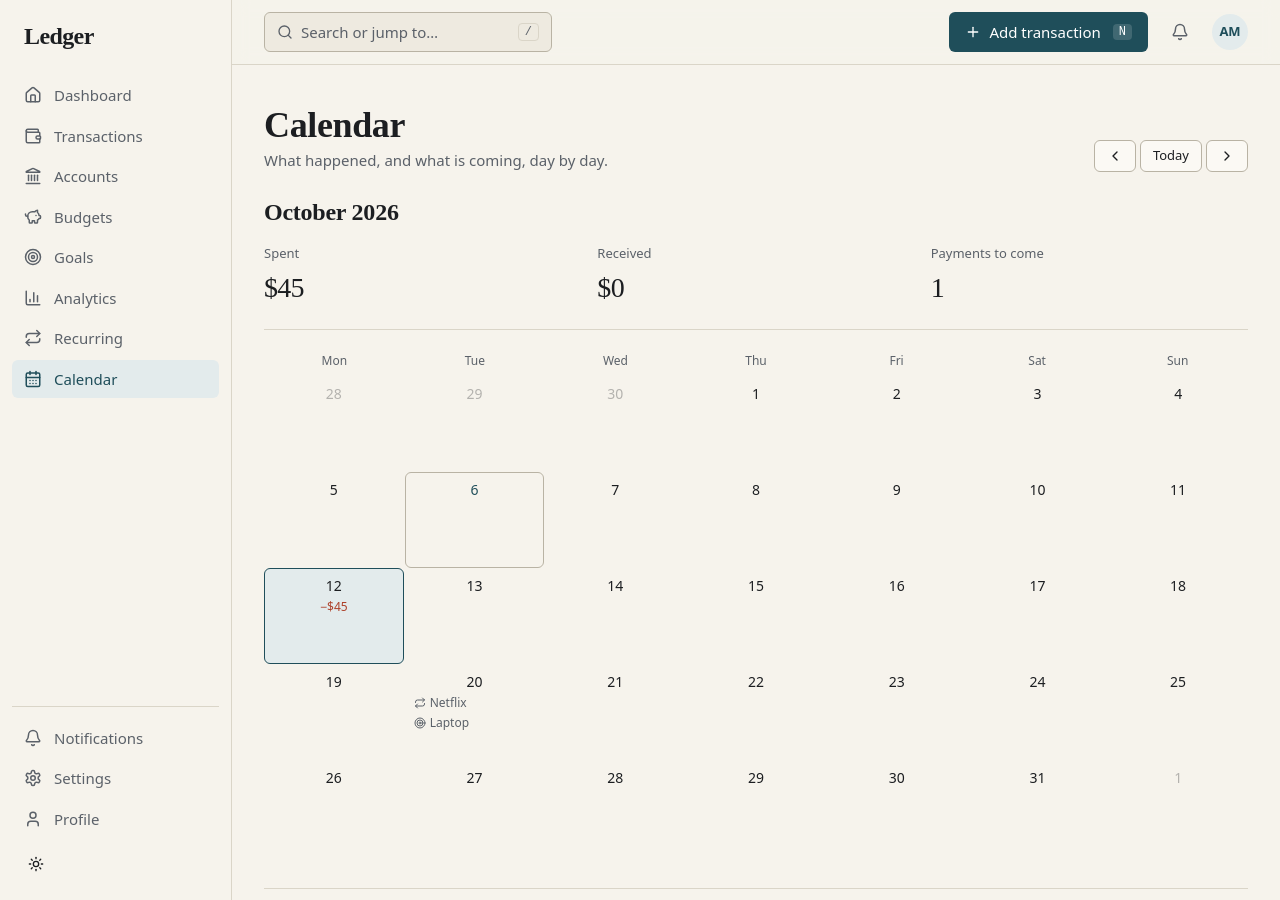
calendar page › shows the selected day: transactions, what is due, goal deadlines
Click the button with aria-label "Tuesday, October 20" at (475,712), box [405,664,544,760]
(page scrolled)
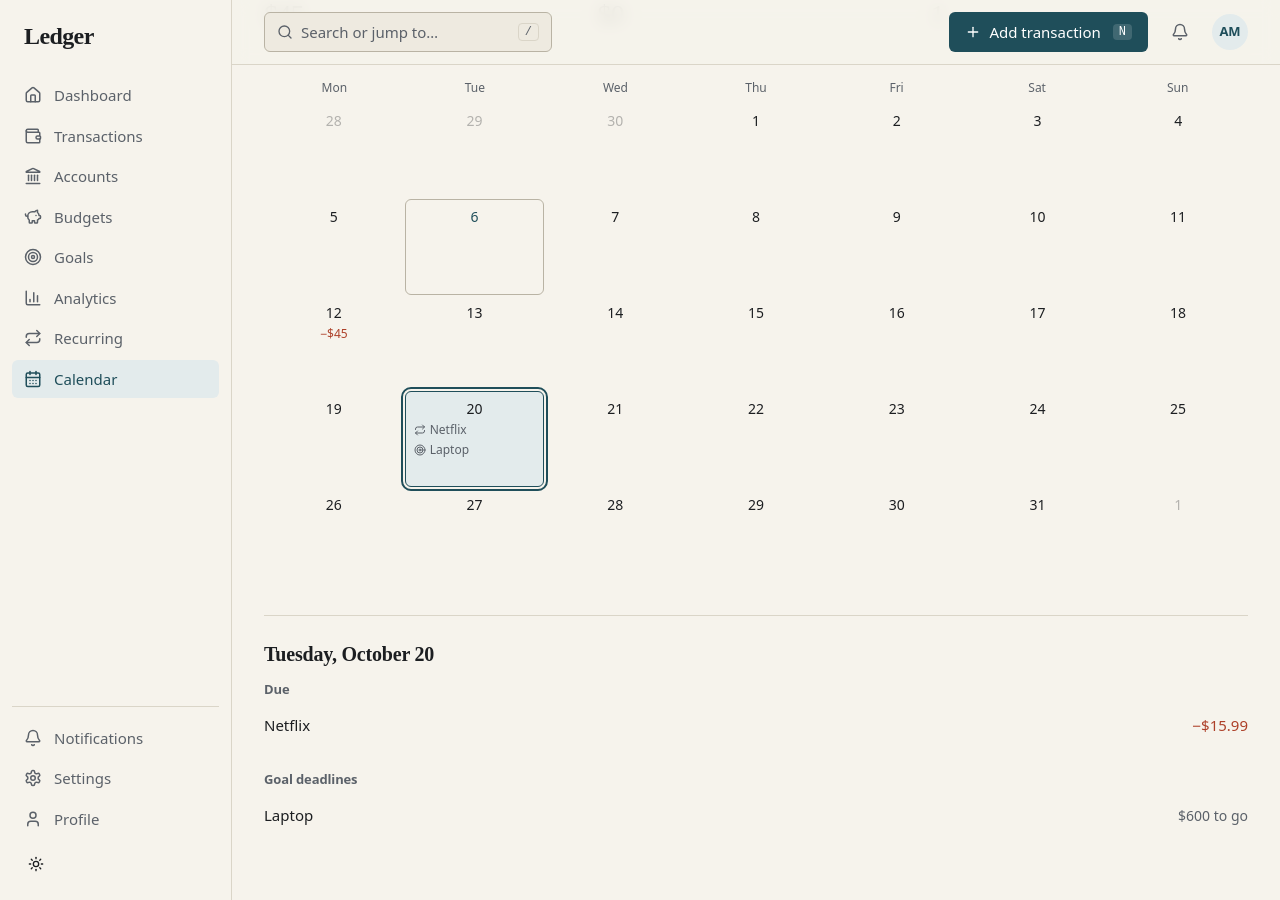
Expected: the link "Netflix" is shown, [264,714,310,734]
Expected: the text "$600 to go" is shown, [1178,804,1248,826]
